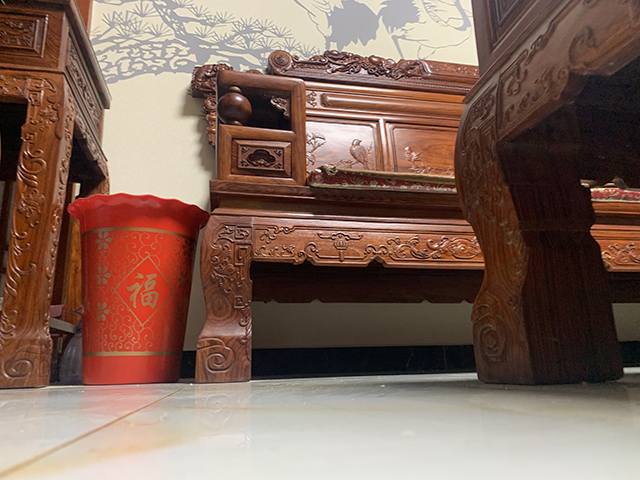sofa: (186, 49, 484, 385)
trashcan: (66, 192, 211, 386)
